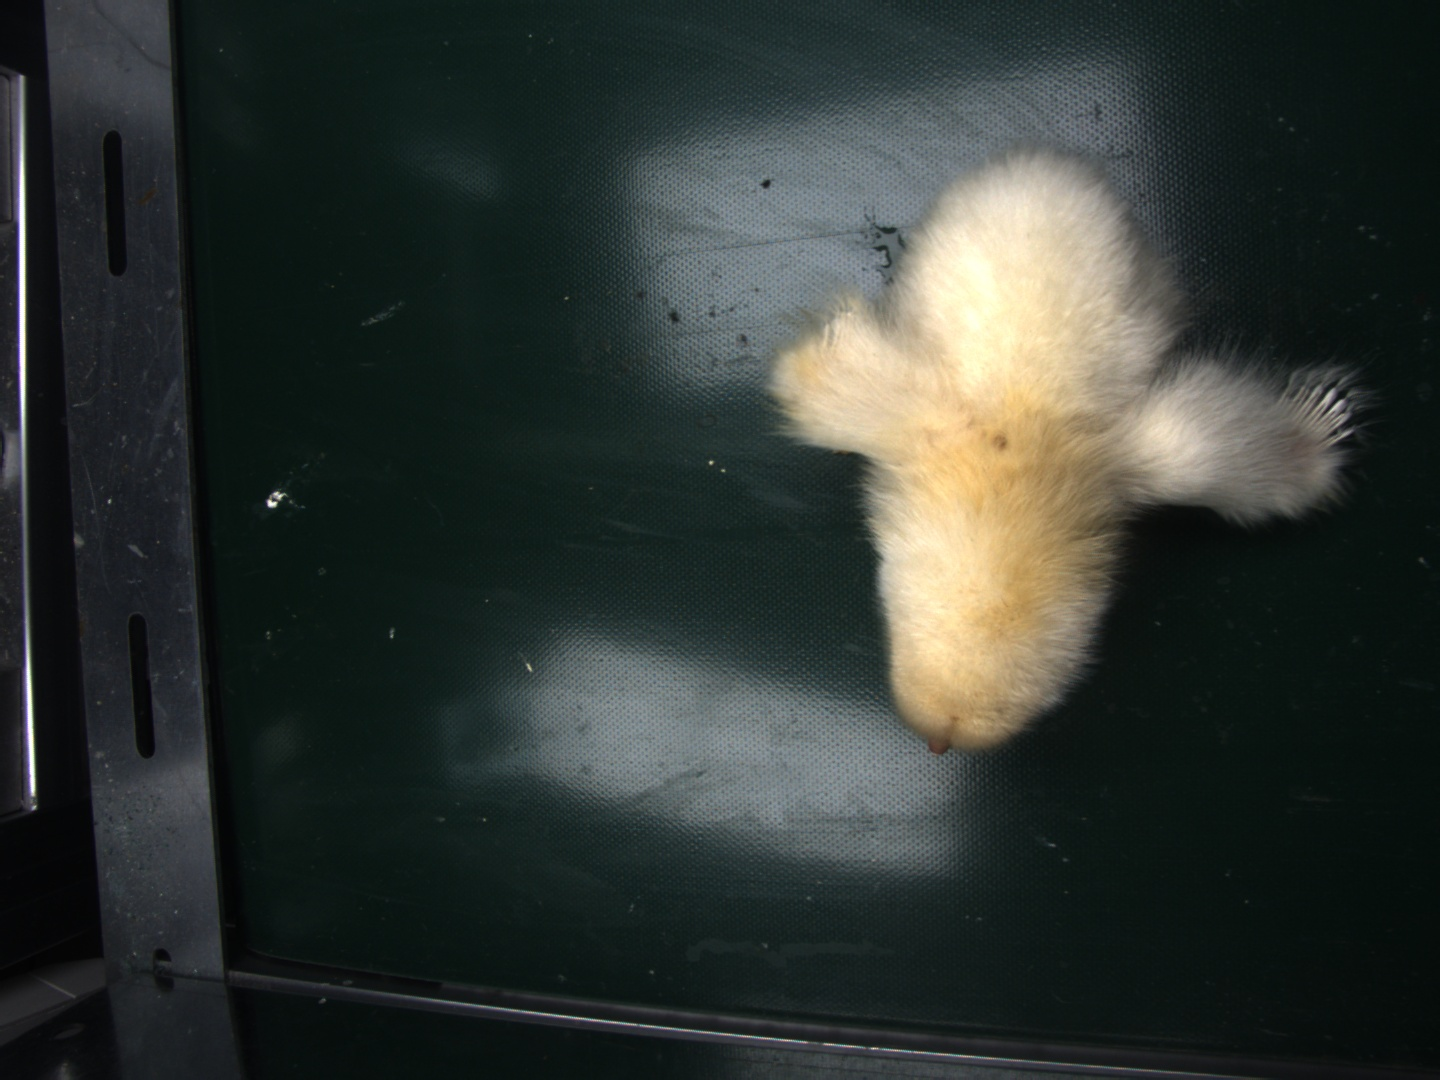male: (1286, 383, 1349, 442)
